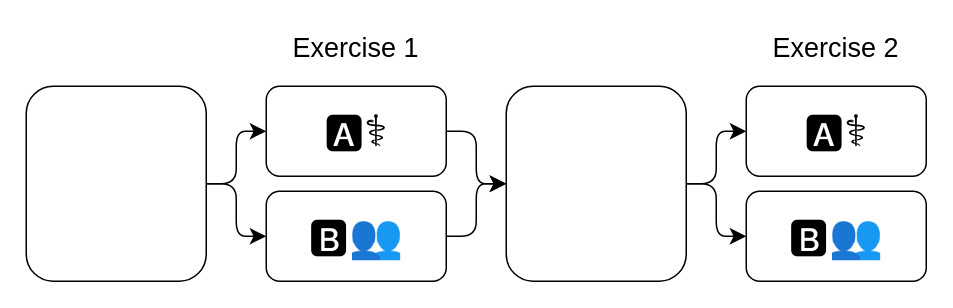
The diagram is 953 pixels wide and 308 high, and some of its shapes have lost their labels. Here are the shapes that lost their labels. From the top down, the box of each, then its label:
(25, 85, 206, 281): Lecture 1
(505, 85, 686, 281): Lecture 2
